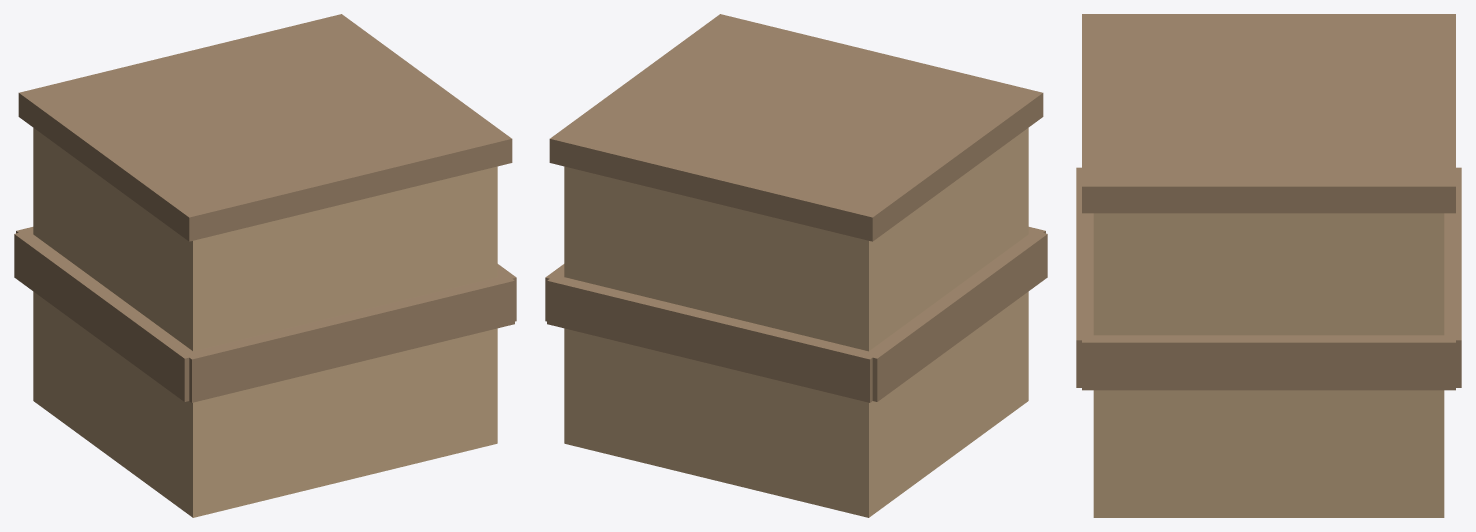
The model's file is crate.glb.
The picture shows the model from 3 angles, left to right: view 1: azimuth 30°, elevation 25°; view 2: azimuth 150°, elevation 25°; view 3: azimuth 270°, elevation 25°; orthographic projection. The views are drawn at different scales.
Parts seen in each view (by area): view 1: crate; view 2: crate; view 3: crate.
Boxes of the visible parts, bbox=[...] form: crate: bbox=[14, 14, 516, 517]; crate: bbox=[545, 14, 1047, 517]; crate: bbox=[1076, 14, 1461, 517].
Bounding box in the file's own units: 0.72 × 0.635 × 0.66.
